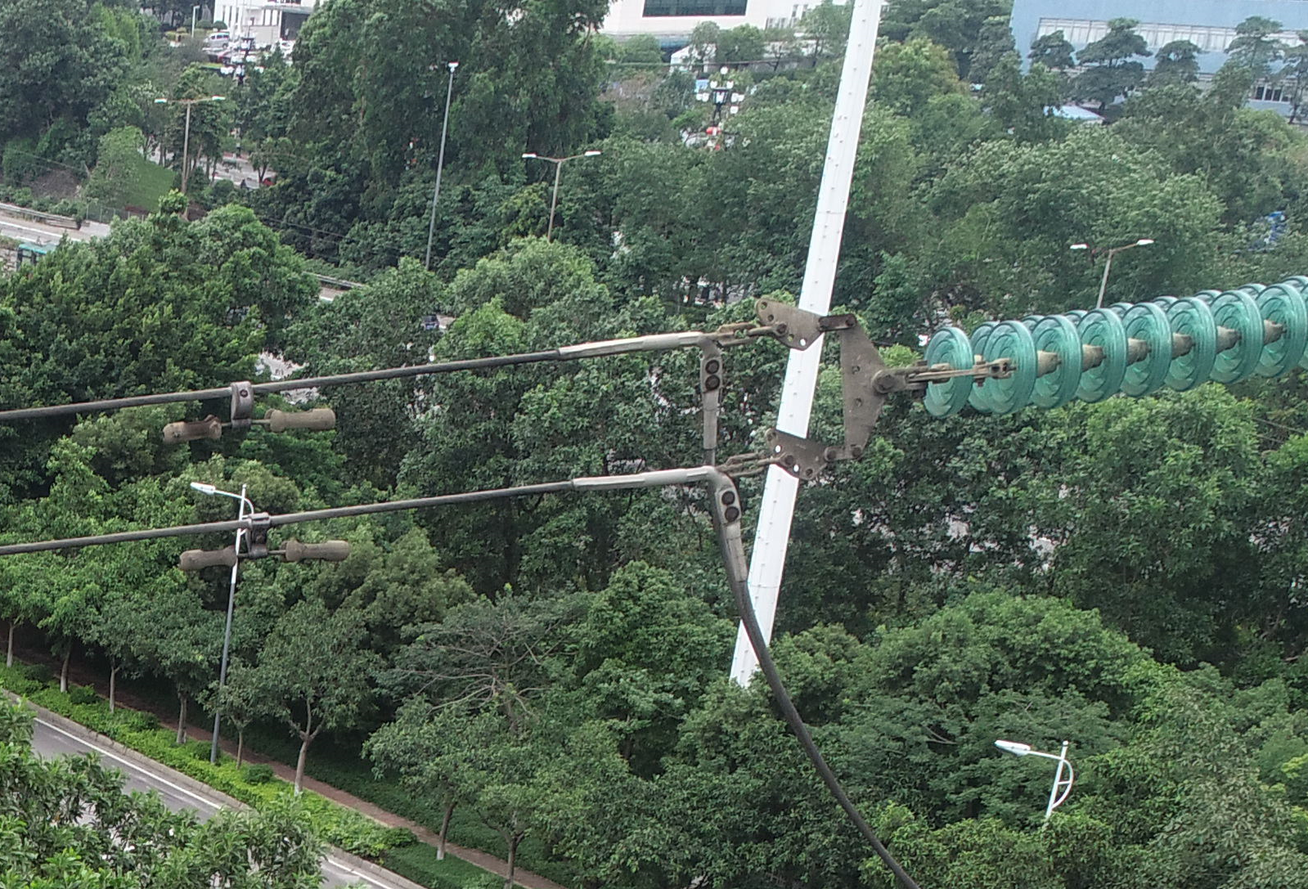damper: (160, 373, 340, 447), (173, 509, 353, 576)
